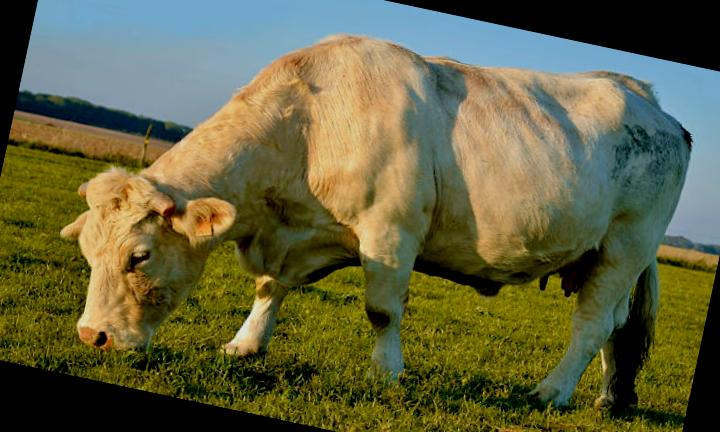Charolais: (62, 35, 691, 408)
